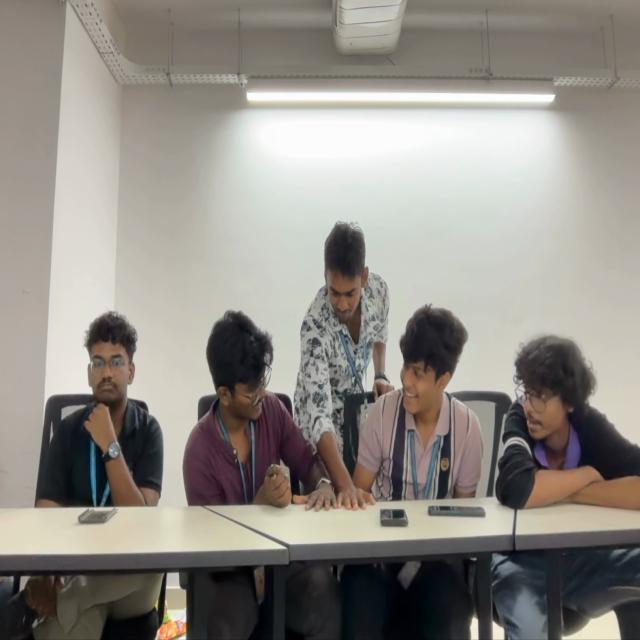Isolated: (40, 302, 165, 517), (496, 336, 640, 508)
socializing: (185, 229, 484, 502)
